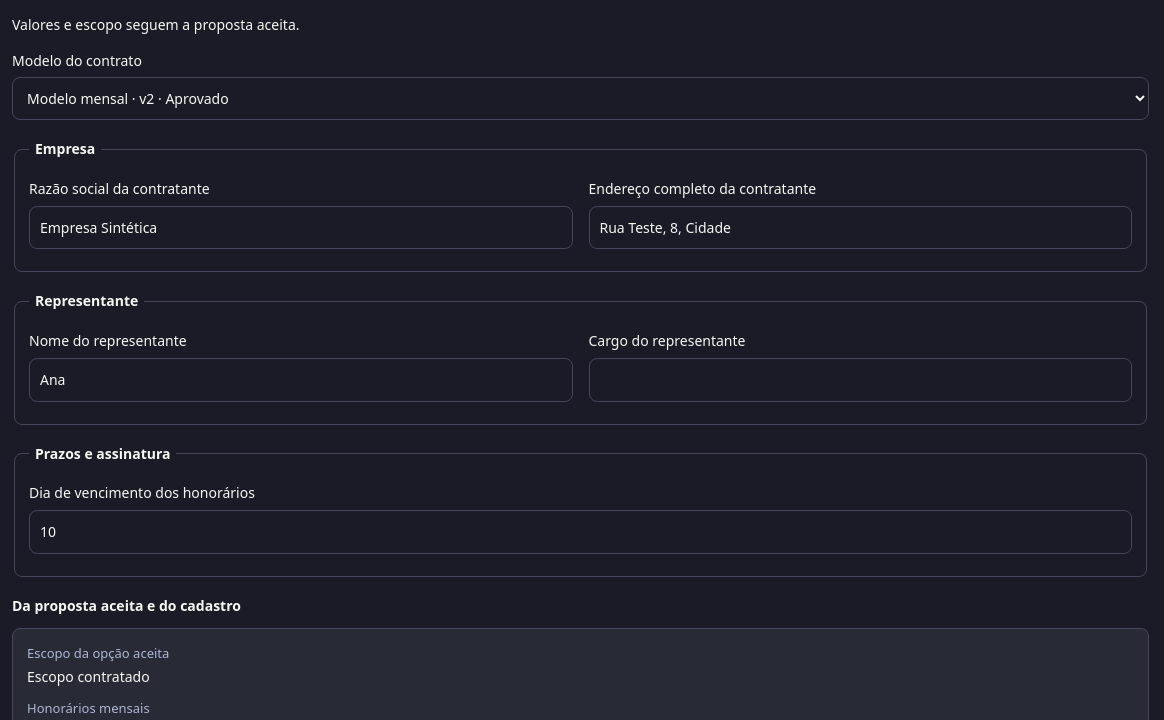
Test case: prioriza a versão aprovada e oferece a versão mais recente do rascunho para revisar
Select "Modelo mensal · v4 · Rascunho" in the dropdown labelled "Modelo do contrato" at (580, 99), box [12,77,1149,120]
(page scrolled)
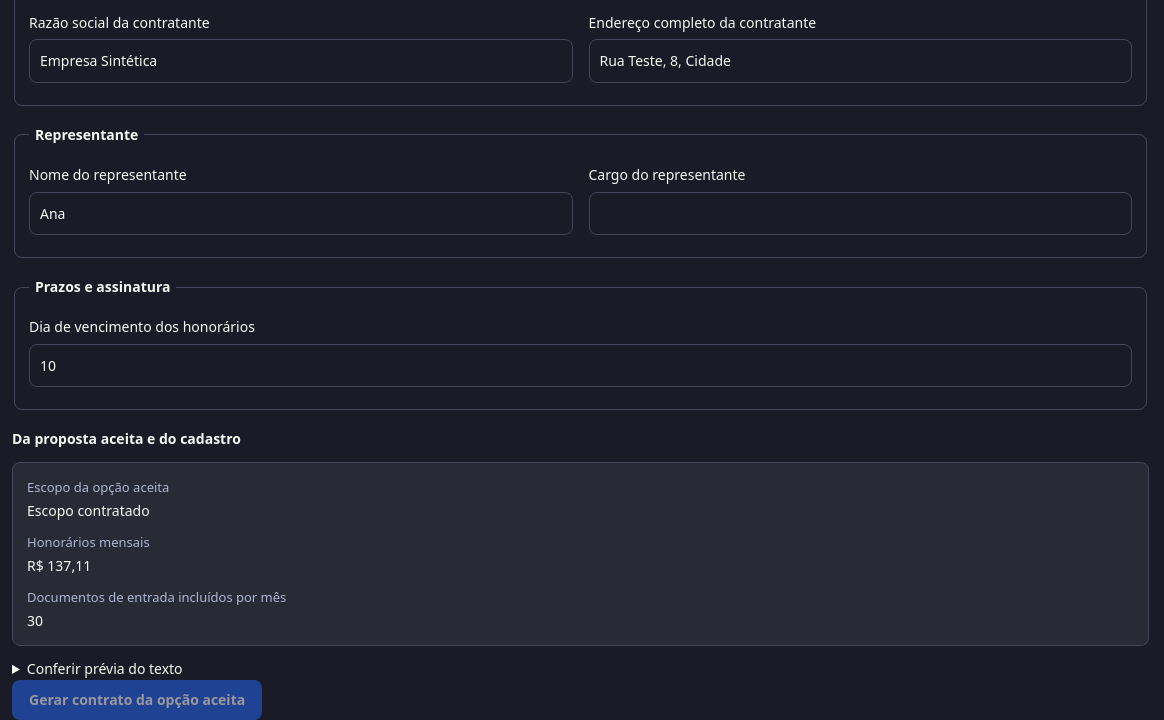
Now the button "Gerar contrato da opção aceita" is disabled, box [12,680,262,719]
